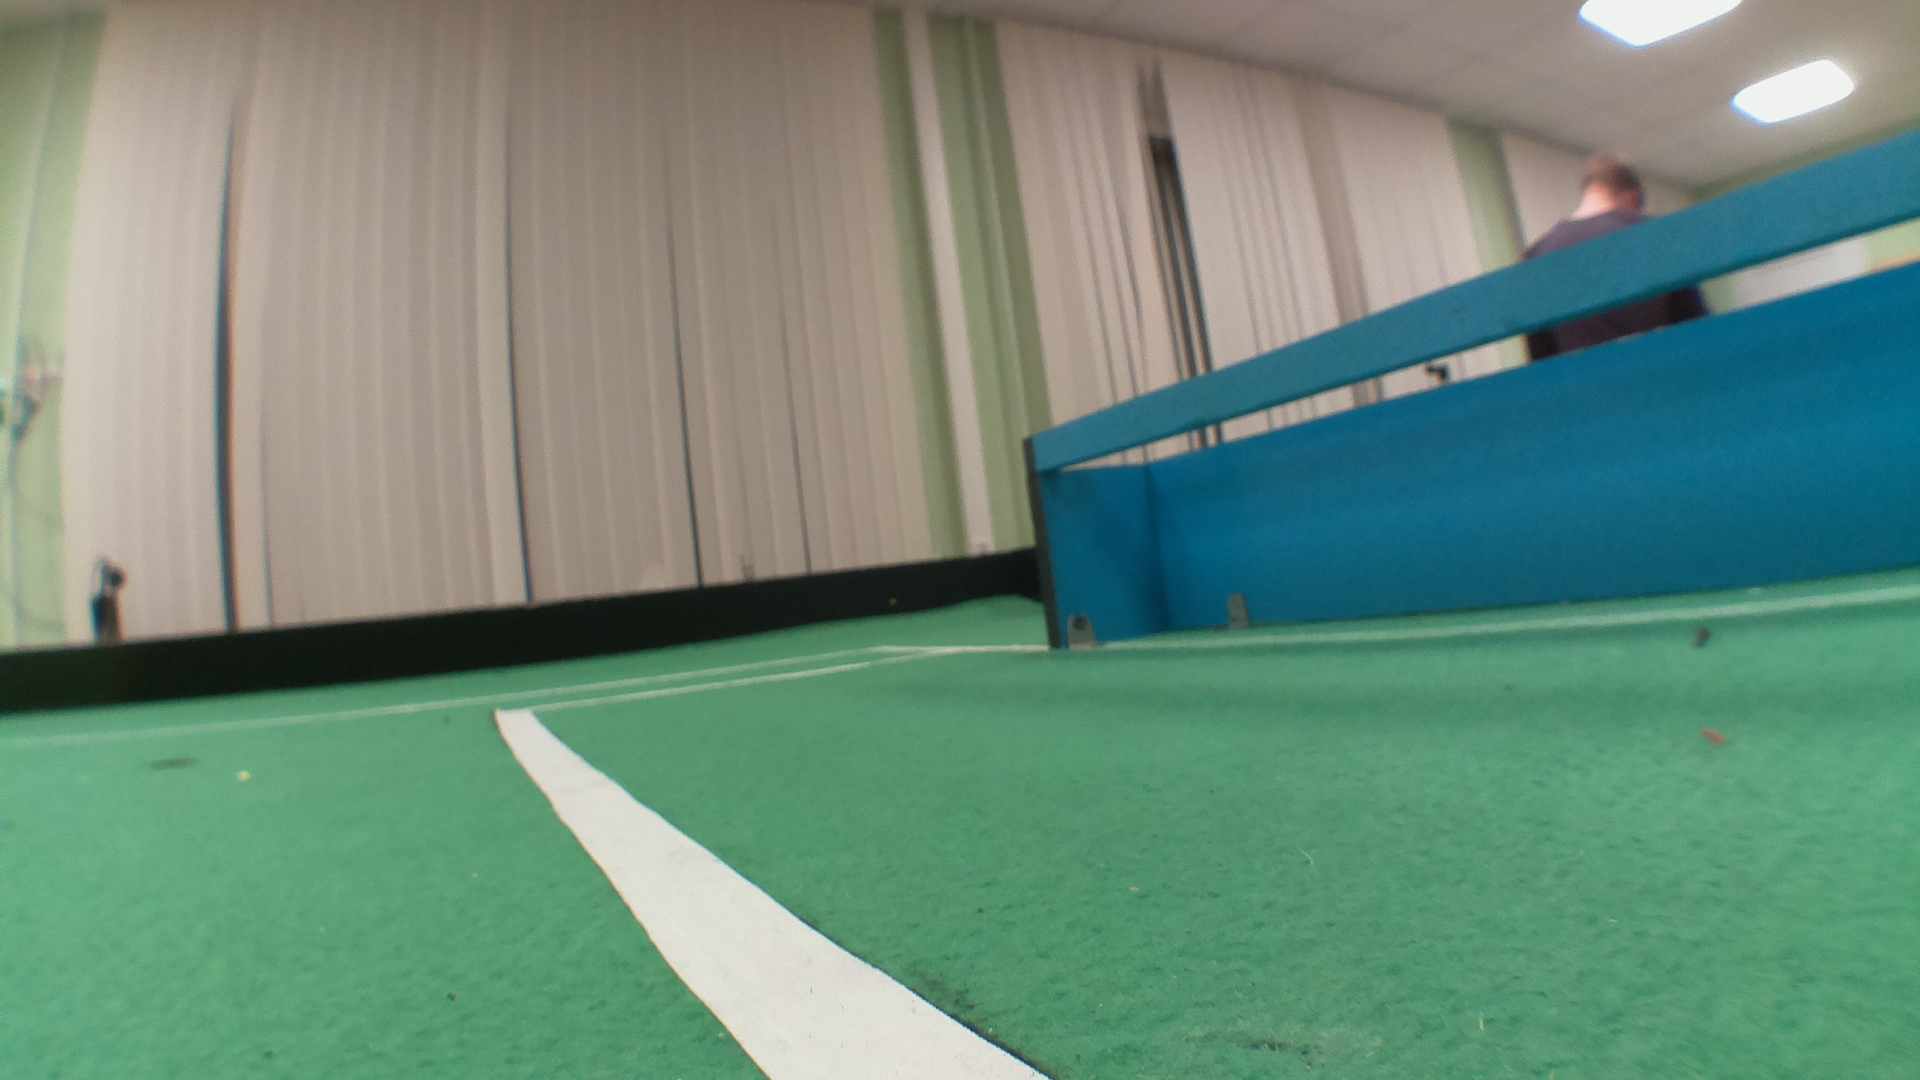BlueGoal: (1021, 202, 1920, 604)
